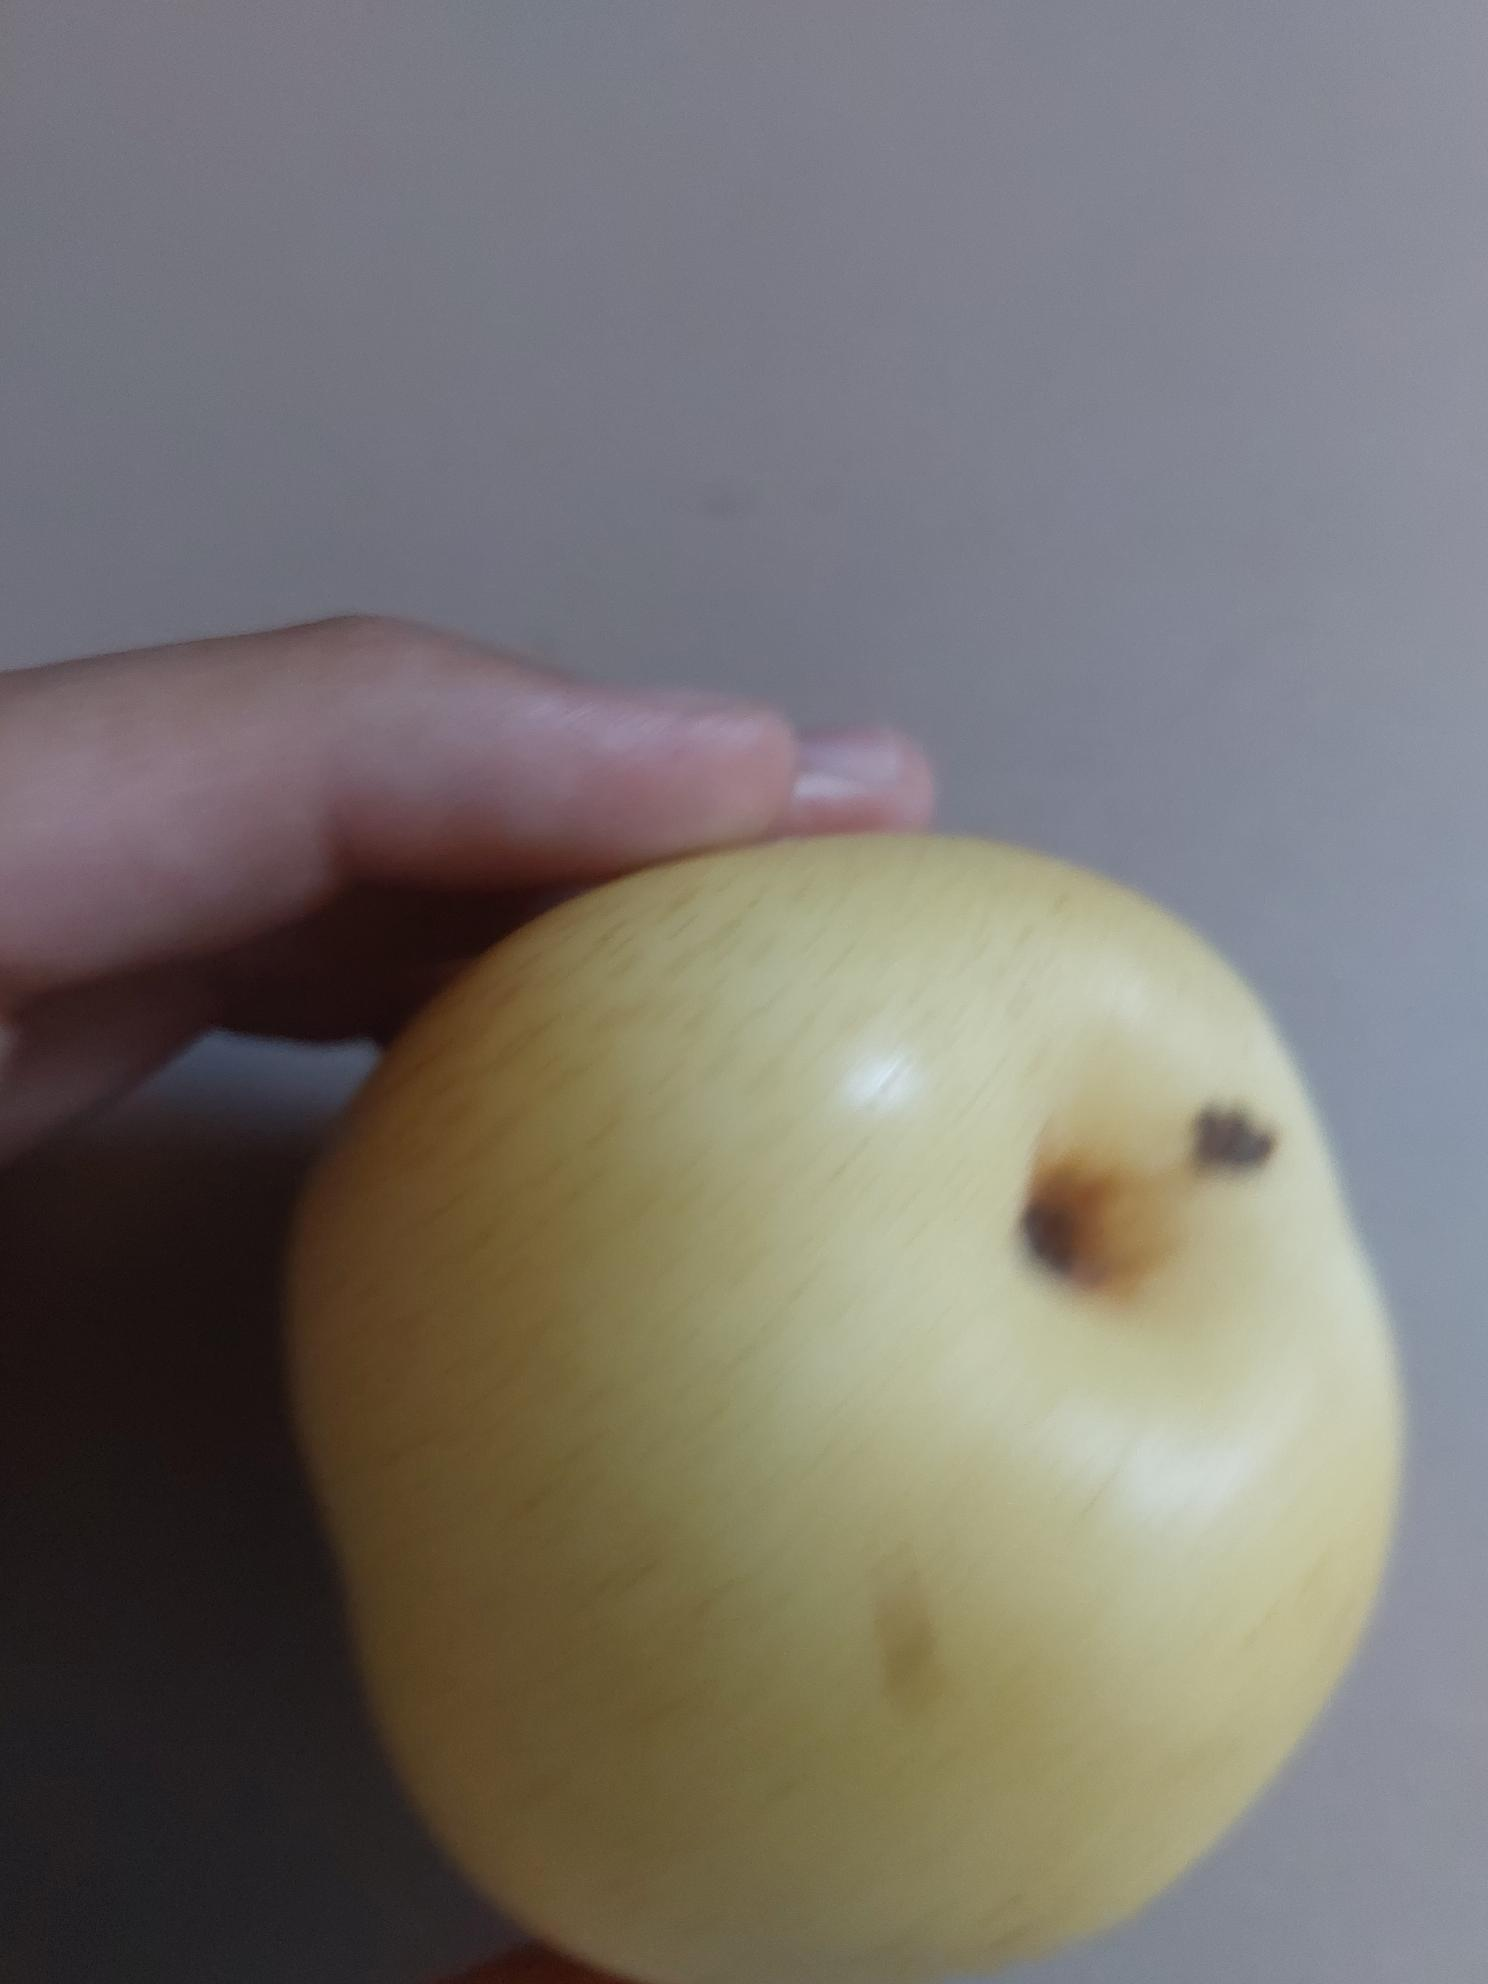Good Pear: (255, 836, 1488, 1984)
